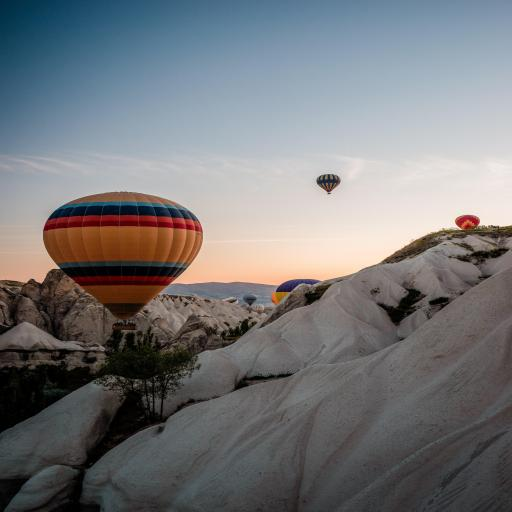hot air ballon: (40, 188, 199, 330), (270, 274, 324, 304), (451, 212, 483, 230), (319, 172, 340, 198)
